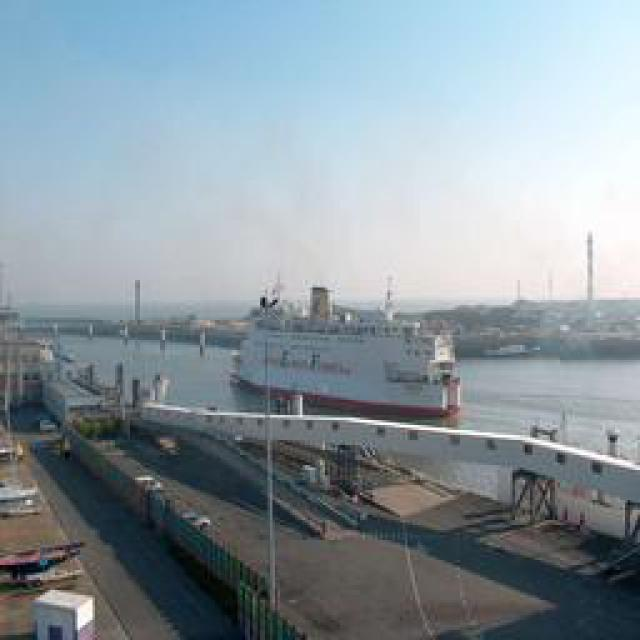Ship: (237, 289, 457, 424)
